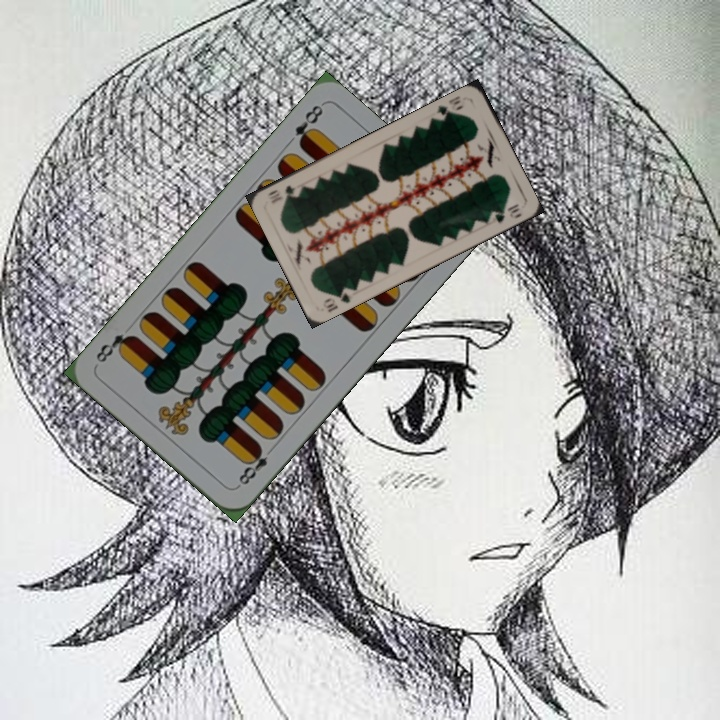E8: (233, 442, 277, 490), (290, 100, 326, 150)
G10: (319, 283, 354, 315), (432, 92, 466, 123)
